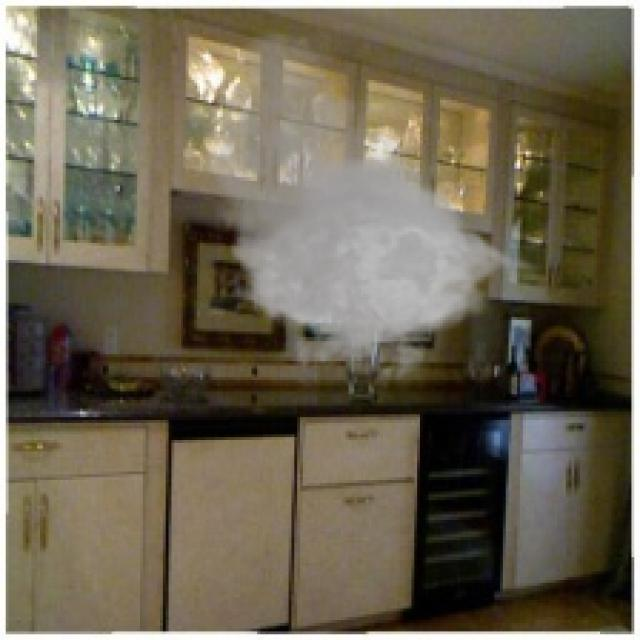smoke: (194, 26, 546, 391)
